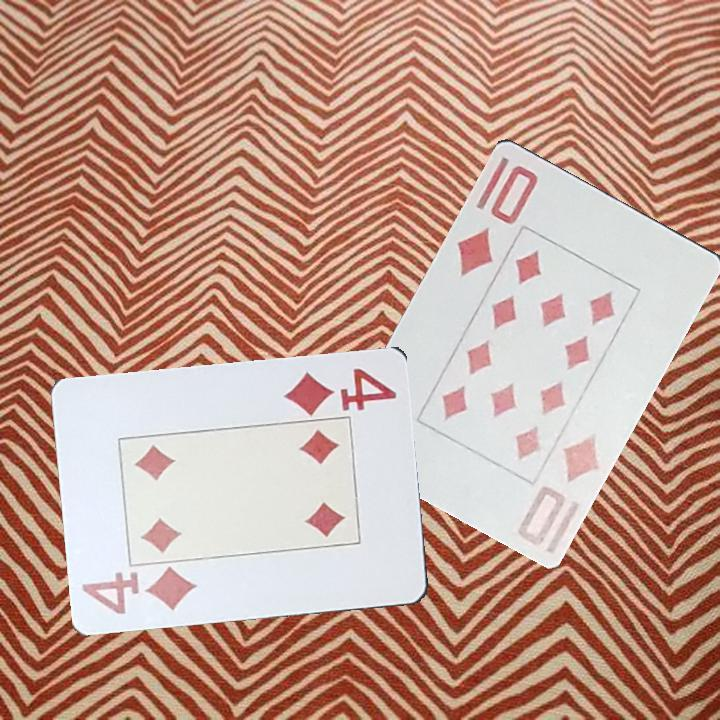4d: (79, 563, 201, 617), (280, 364, 400, 417)
Td: (513, 428, 602, 548), (453, 160, 541, 279)
